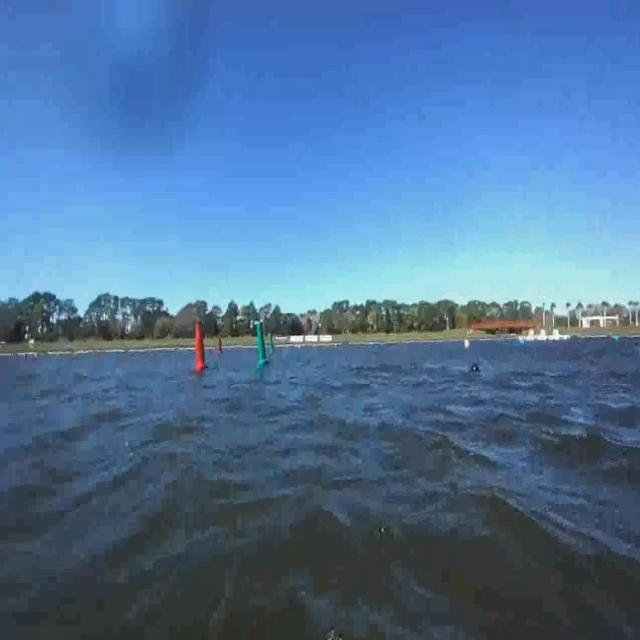black-buoy: (469, 359, 481, 375)
green-buoy: (615, 335, 622, 344)
green-column-buoy: (254, 324, 270, 368)
red-column-buoy: (195, 324, 208, 369), (217, 338, 224, 354)
yellow-buoy: (464, 339, 470, 351)
